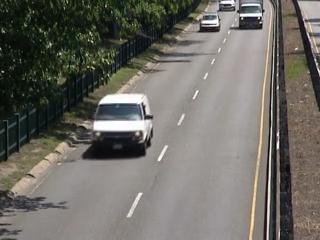car: (198, 12, 223, 34), (217, 1, 238, 12)
truck: (84, 92, 156, 158), (238, 1, 266, 32)
